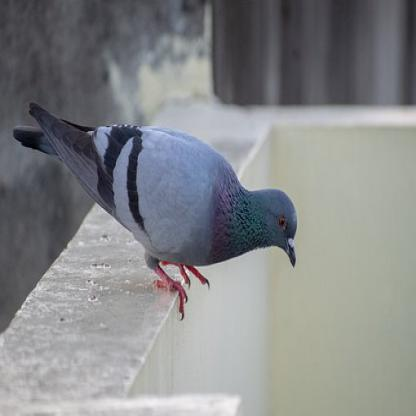Rock Pigeon: (31, 98, 302, 275)
